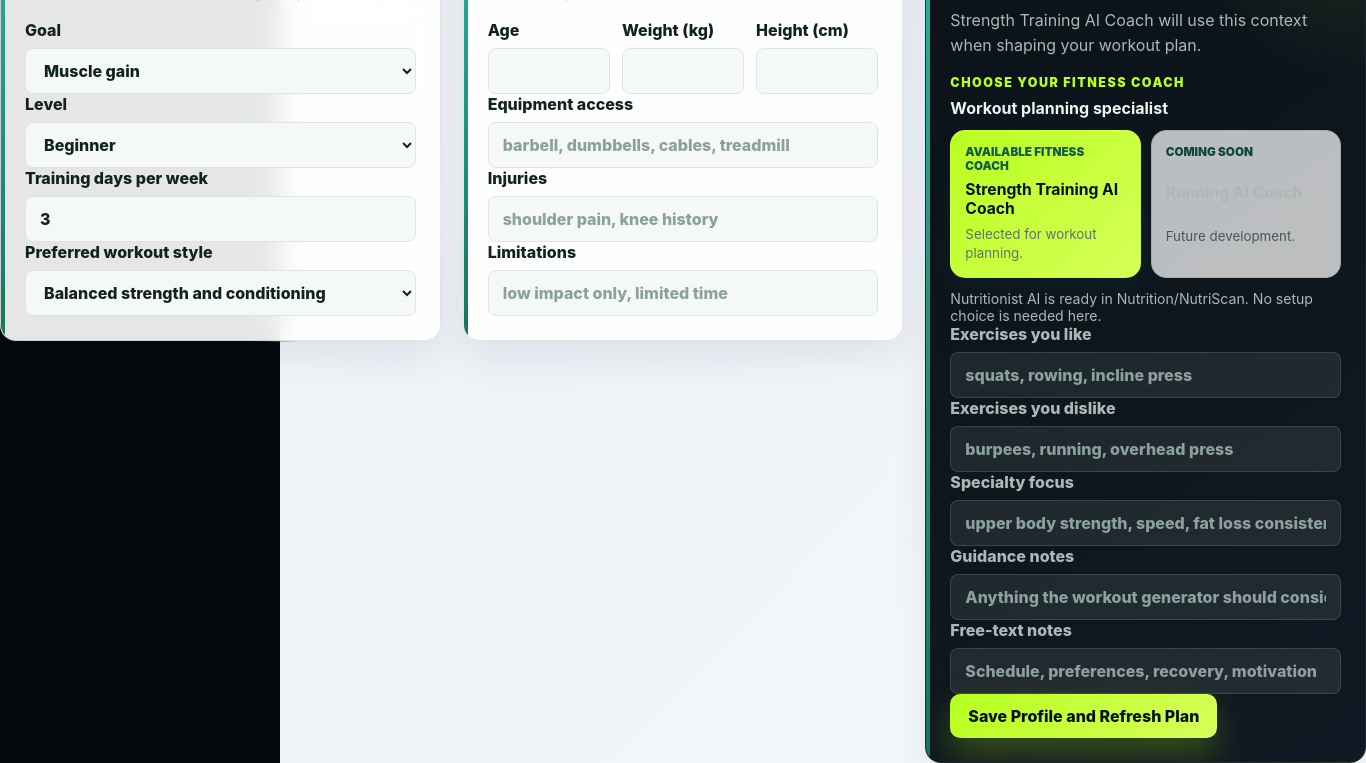
Test: requires age, weight, and height before saving or generating a plan
(page scrolled)
Expected: the button "Available Fitness Coach Strength Training AI Coach Selected for workout planning" is shown, [950,130,1141,278]
Click the button "Save Profile and Refresh Plan" at x=1084, y=716, box [950,694,1217,738]
(page scrolled)
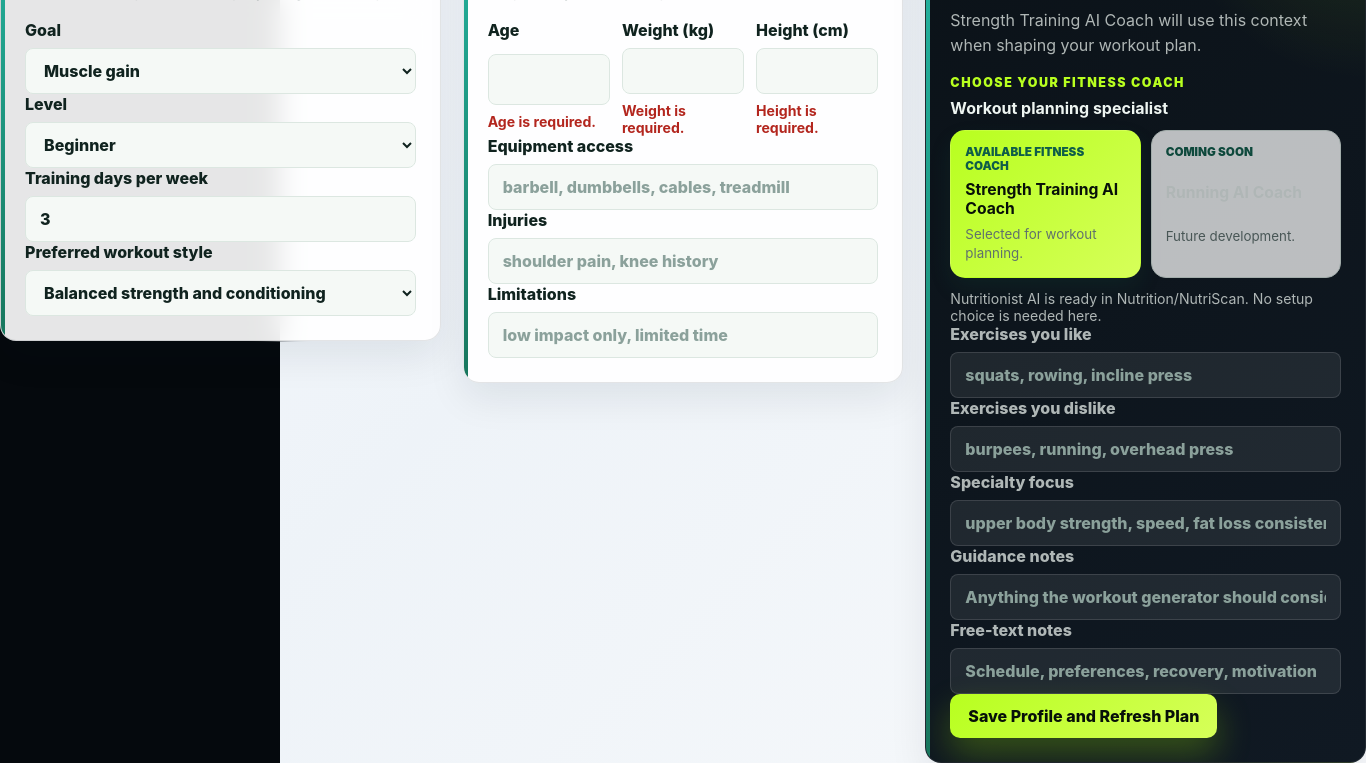
Now the text "Age is required." is shown, box [488,113,610,136]
Now the text "Weight is required." is shown, box [622,102,686,136]
Now the text "Height is required." is shown, box [756,102,819,136]
